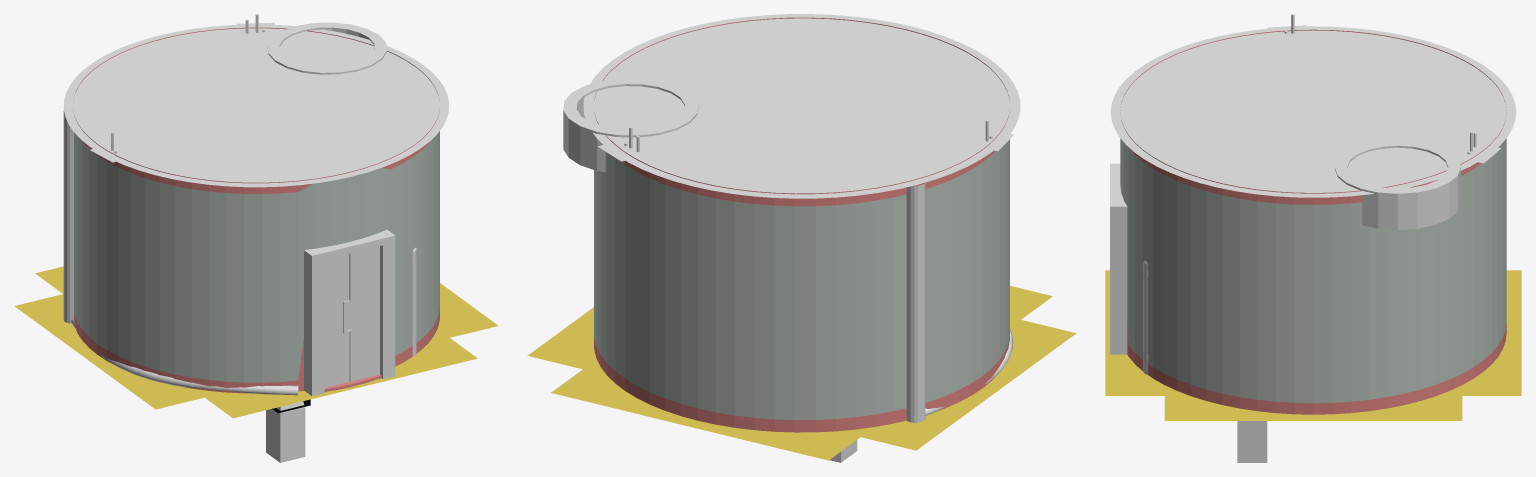
Rendered from InteriorOfShipDamaged (1).fbx.
3 renders of one model, left to right at view 1: azimuth 30°, elevation 25°; view 2: azimuth 150°, elevation 25°; view 3: azimuth 270°, elevation 25°, orthographic. The views are drawn at different scales.
Parts seen in each view (by area): view 1: Nave, NaveTecho, NaveFloor, MarcoPuerta, PuertaLadoIzquierdo, PuertaLadoDerecho, naveArriba, tubo, PanelDefensa, tubo2, detallePuerta, TanqueOxigeno; view 2: Nave, NaveTecho, NaveFloor, tubo, naveArriba; view 3: Nave, NaveTecho, NaveFloor, naveArriba, MarcoPuerta, PanelDefensa, TanqueOxigeno.
Part boxes in pixels (x1,y1,x2,y2): Nave: [73, 27, 439, 393]; NaveTecho: [63, 24, 449, 187]; NaveFloor: [14, 266, 498, 418]; MarcoPuerta: [304, 229, 395, 396]; PuertaLadoIzquierdo: [346, 246, 379, 380]; PuertaLadoDerecho: [324, 253, 349, 387]; naveArriba: [267, 22, 386, 74]; tubo: [63, 110, 73, 323]; PanelDefensa: [266, 401, 305, 462]; tubo2: [71, 317, 298, 395]; detallePuerta: [343, 253, 352, 382]; TanqueOxigeno: [412, 247, 416, 356]; Nave: [594, 17, 1009, 432]; NaveTecho: [583, 14, 1020, 198]; NaveFloor: [527, 286, 1075, 460]; tubo: [906, 182, 925, 422]; naveArriba: [563, 78, 698, 172]; Nave: [1120, 29, 1506, 414]; NaveTecho: [1110, 26, 1516, 197]; NaveFloor: [1105, 270, 1521, 420]; naveArriba: [1334, 140, 1460, 229]; MarcoPuerta: [1110, 163, 1127, 354]; PanelDefensa: [1237, 421, 1267, 462]; TanqueOxigeno: [1143, 260, 1148, 374].
Bounding box in the file's own units: 1505 × 1447 × 1505.
